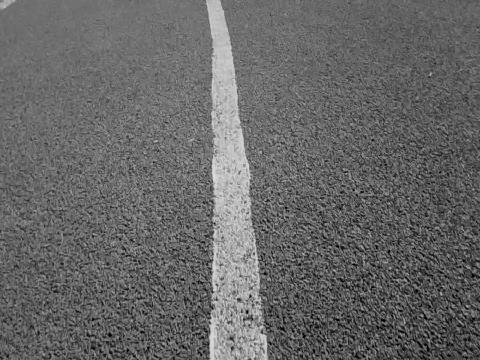Lines: (205, 0, 270, 360)
